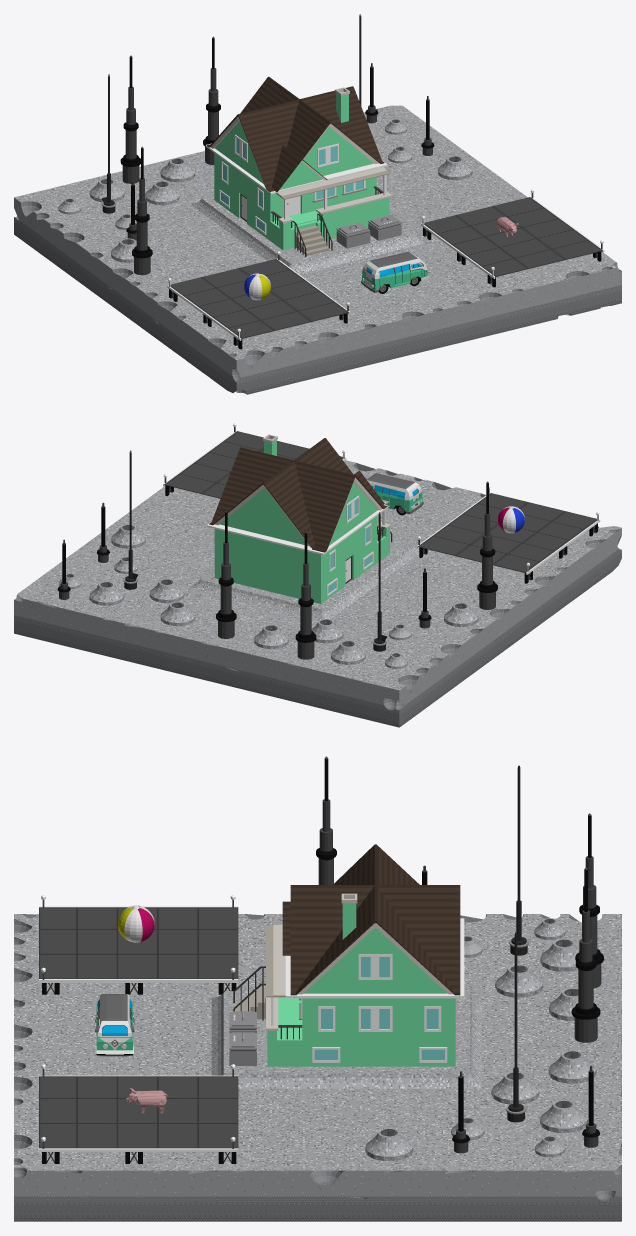
3 renders of one model, top to bottom at view 1: azimuth 30°, elevation 25°; view 2: azimuth 150°, elevation 25°; view 3: azimuth 270°, elevation 25°, orthographic. The views are drawn at different scales.
Visible parts, largest first — view 1: Cube.027, Cube.352, Cube.026, Cube.025, Cube.028, VEHICLES_VAN, Cylinder.020, Cylinder.021, Cylinder.017, Cube.029, Cube.030, Cylinder.027 (+4 smaller); view 2: Cube.027, Cube.352, Cube.025, Cube.028, Cube.026, VEHICLES_VAN, Cylinder.020, Cylinder.021, Cylinder.017, Cylinder.031, Cylinder.028, Cylinder.029 (+8 smaller); view 3: Cube.027, Cube.352, Cube.026, Cube.025, Cube.028, Cylinder.017, VEHICLES_VAN, Cylinder.020, Cylinder.021, Cylinder.033, Cylinder.031, Cylinder.029 (+11 smaller).
Part boxes in pixels (x1,y1,x2,y2): Cube.027: (14,105,621,394); Cube.352: (205,76,392,256); Cube.026: (421,189,604,287); Cube.025: (167,251,350,349); Cube.028: (191,195,424,274); VEHICLES_VAN: (361,251,428,293); Cylinder.020: (120,55,140,183); Cylinder.021: (132,146,152,275); Cylinder.017: (203,36,220,164); Cube.029: (336,222,370,248); Cube.030: (368,215,401,240); Cylinder.027: (160,158,195,182); Cube.027: (14,460,621,727); Cube.352: (206,434,392,603); Cube.025: (417,485,600,583); Cube.028: (190,538,419,620); Cube.026: (163,423,346,498); VEHICLES_VAN: (366,473,423,515); Cylinder.020: (295,531,316,659); Cylinder.021: (477,481,497,609); Cylinder.017: (216,510,236,638); Cylinder.031: (89,581,124,605); Cylinder.028: (331,640,365,664); Cylinder.029: (160,601,195,626); Cube.027: (14,914,621,1221); Cube.352: (233,844,464,1066); Cube.026: (39,1064,238,1163); Cube.025: (39,895,238,994); Cube.028: (211,991,481,1088); Cylinder.017: (571,867,600,1042); VEHICLES_VAN: (95,994,134,1056); Cylinder.020: (575,813,603,988); Cylinder.021: (316,756,336,884); Cylinder.033: (365,1128,413,1160); Cylinder.031: (540,1100,587,1132); Cylinder.029: (548,1050,596,1083).
Bounding box in the file's own units: 4000 × 1900 × 4000.
38 materials, 4 textured.
